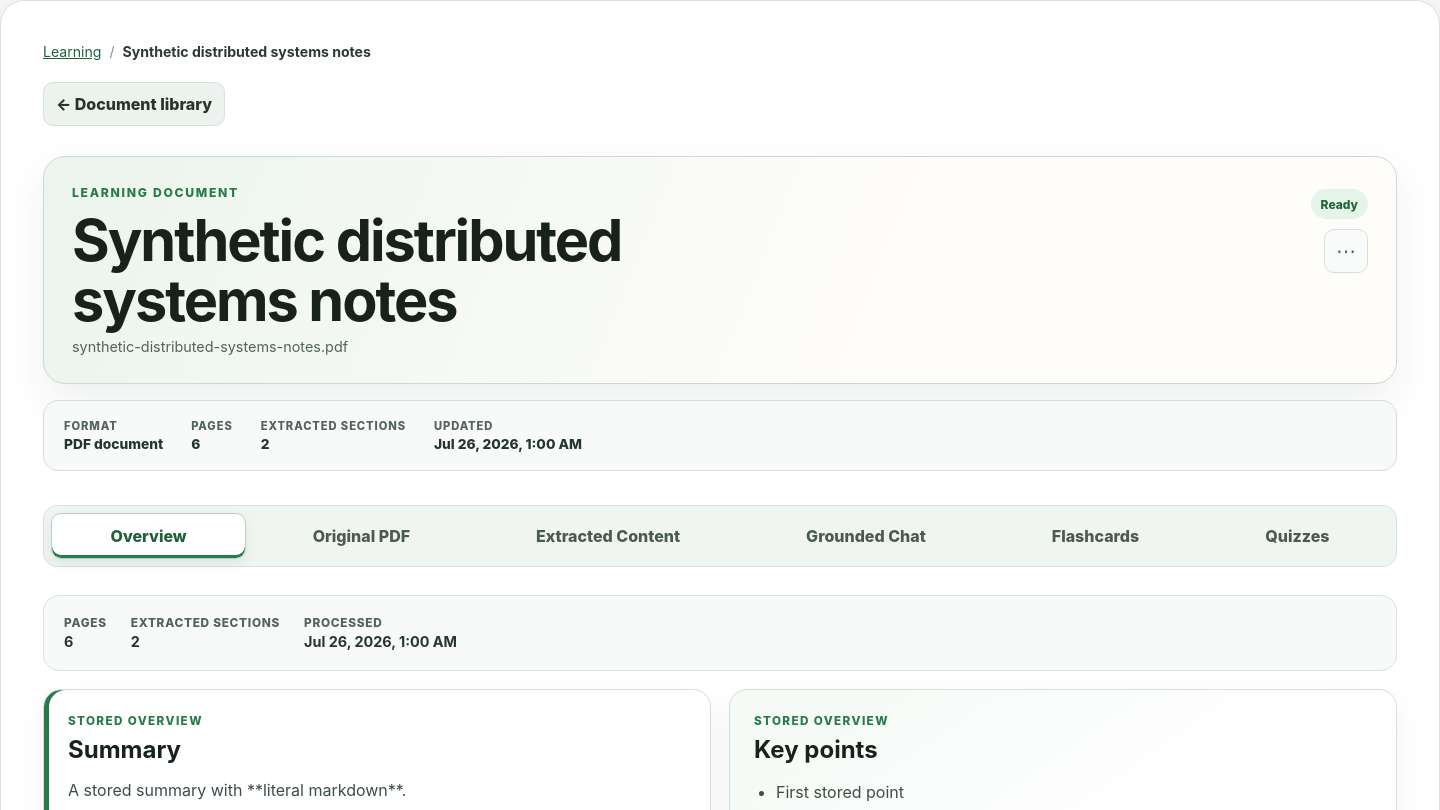
Test: Learning document workspace › offers owned flashcard generation and sets only for a ready document
Click the tab "Flashcards" at (1096, 536), box [992, 513, 1199, 559]
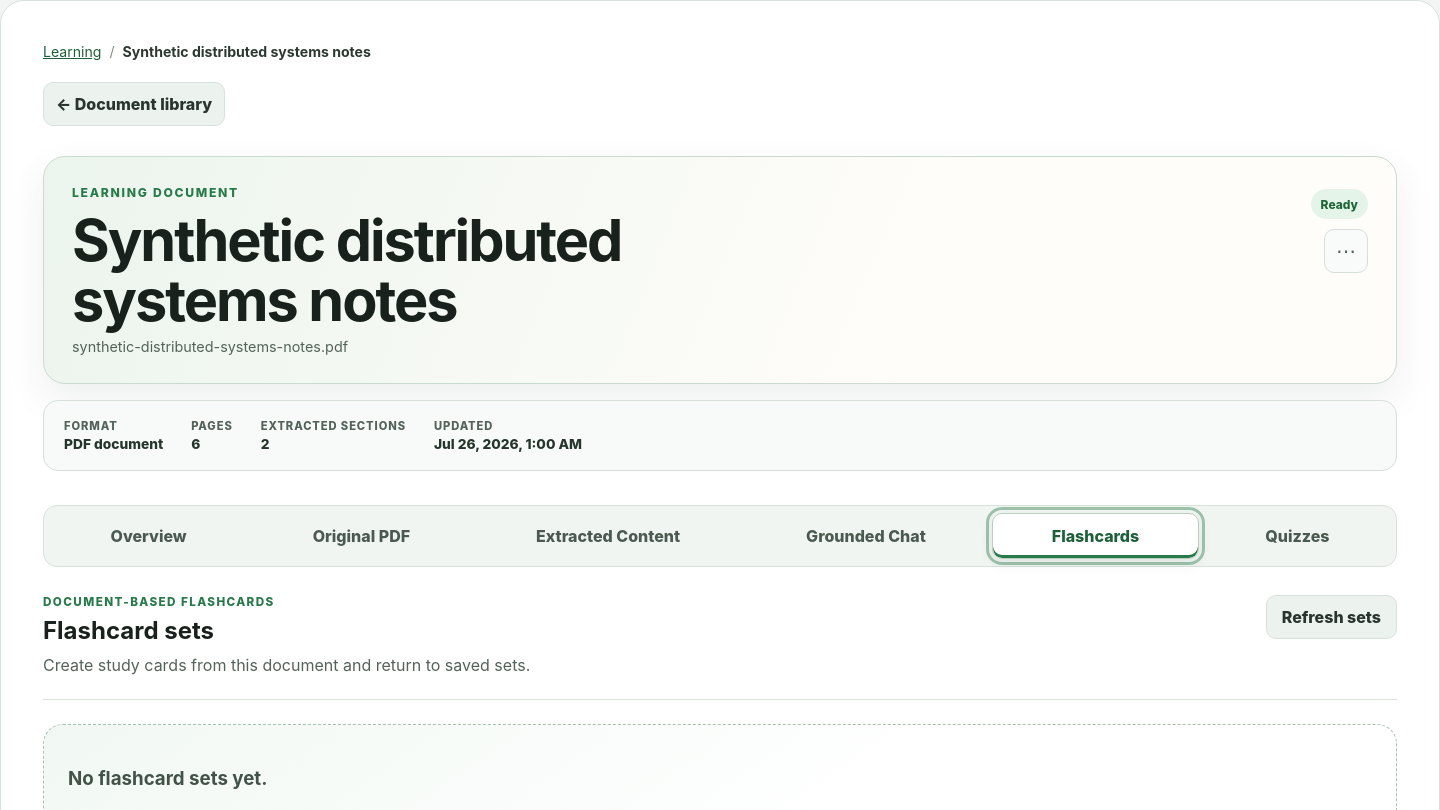
Expected: the heading "Flashcard sets" is shown, [43, 616, 214, 645]
Expected: the heading "No flashcard sets yet." is shown, [68, 767, 268, 790]
